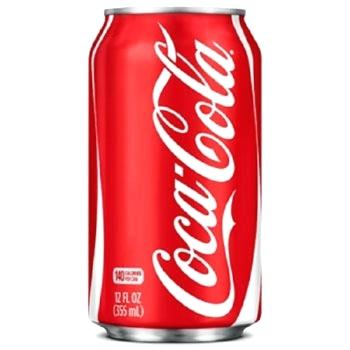can: (87, 4, 265, 345)
